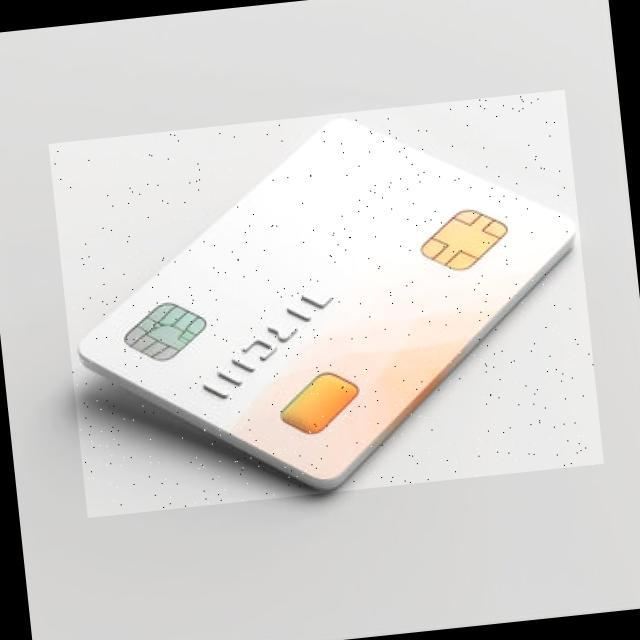payment_card: (66, 98, 581, 497)
